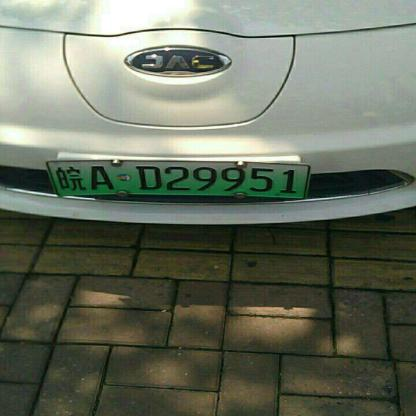lp: (47, 162, 59, 197)
